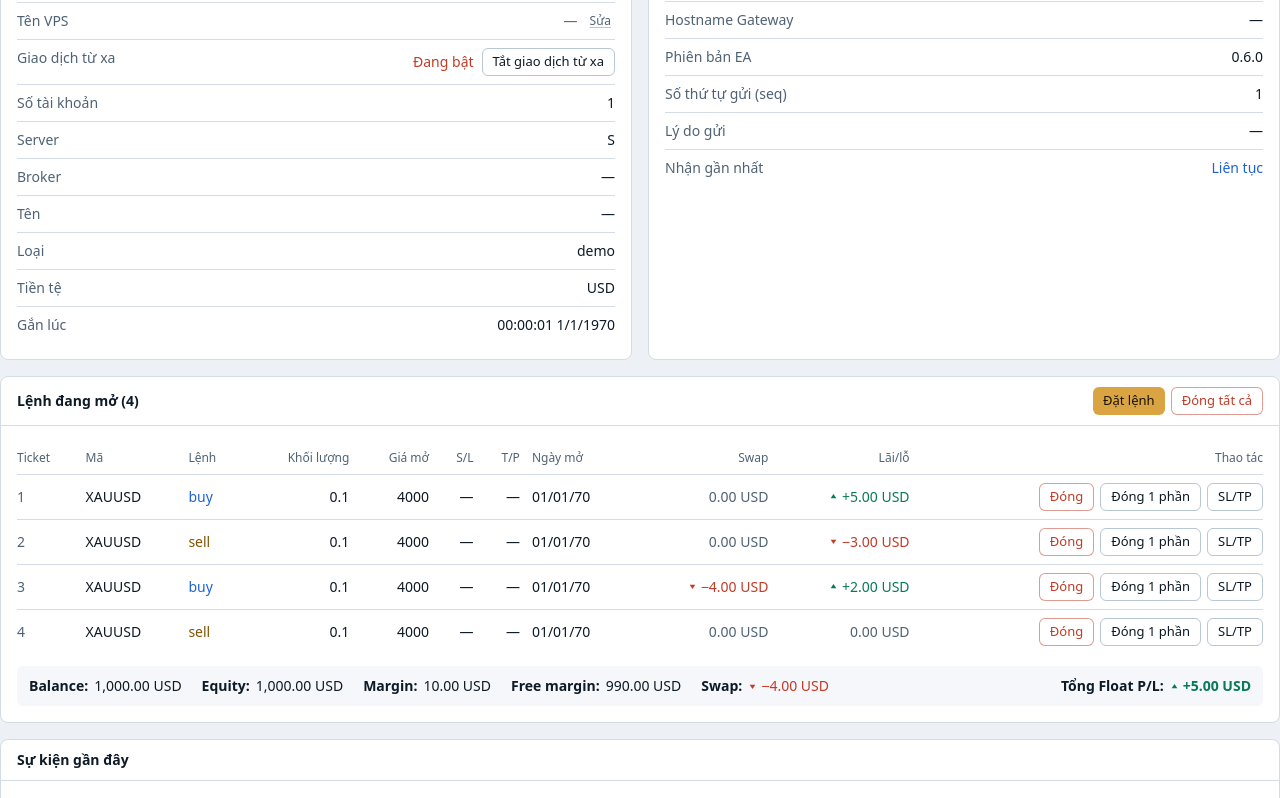
Đặt lệnh Market › mặc định Market + Buy, điền sẵn mã của lệnh đầu tiên, chưa gửi gì khi mới mở
The image size is (1280, 798).
(page scrolled)
Click the button "Đặt lệnh". click: (1129, 400)
box: [1093,386,1165,414]
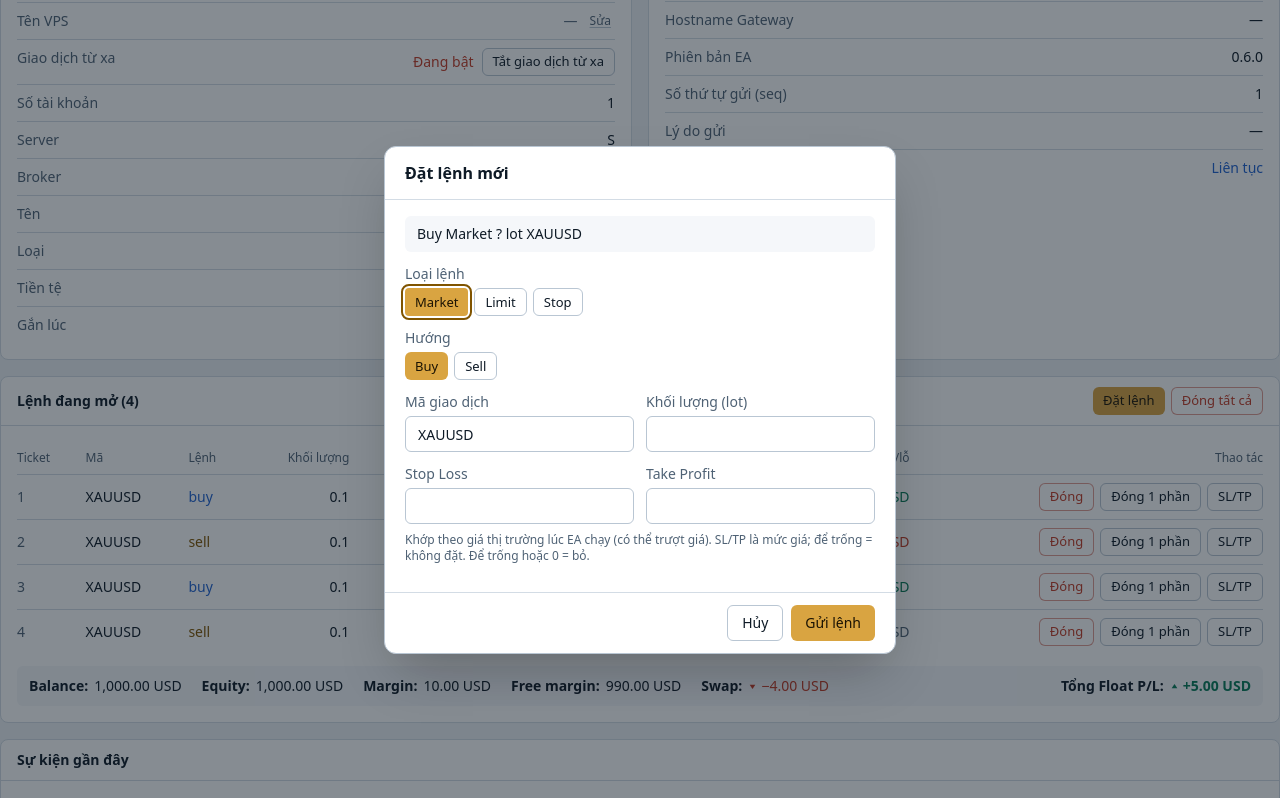
Expected: the field labelled "Mã giao dịch" holds "XAUUSD", [405,416,634,452]
